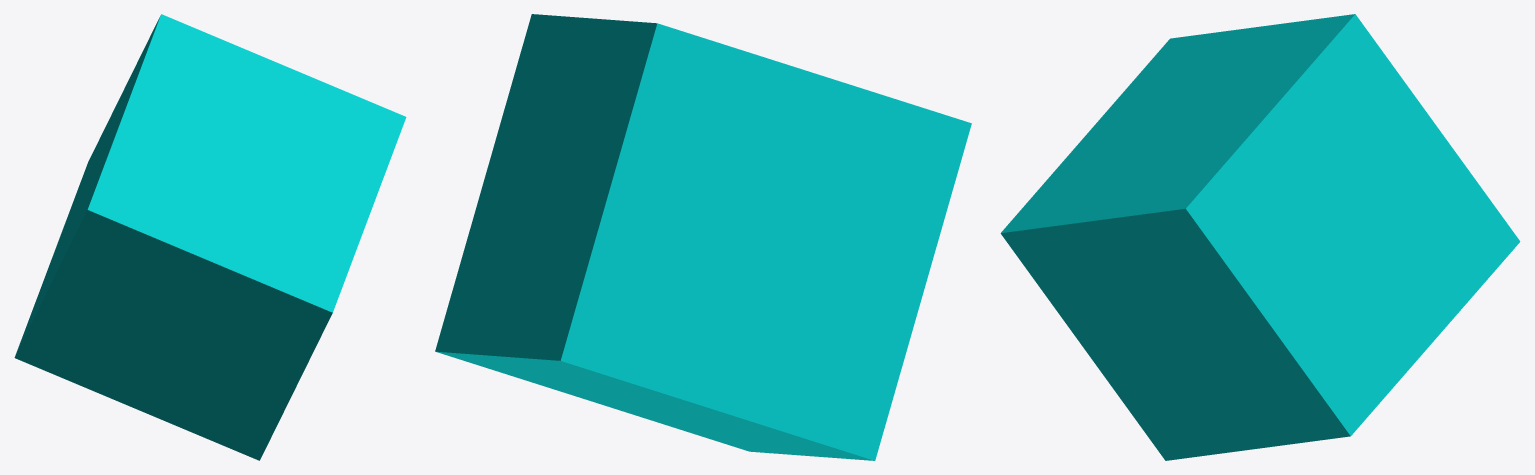
Rendered from Cube-Cyan-From-Maya.dae.
3 renders of one model, left to right at view 1: azimuth 30°, elevation 25°; view 2: azimuth 150°, elevation 25°; view 3: azimuth 270°, elevation 25°, orthographic. The views are drawn at different scales.
Parts seen in each view (by area): view 1: pCube1; view 2: pCube1; view 3: pCube1.
Part boxes in pixels (x1,y1,x2,y2): pCube1: (14, 14, 406, 460); pCube1: (435, 14, 971, 460); pCube1: (1000, 14, 1520, 460).
Size of the model in its own units: 0.6284 by 0.7168 by 0.7694.
